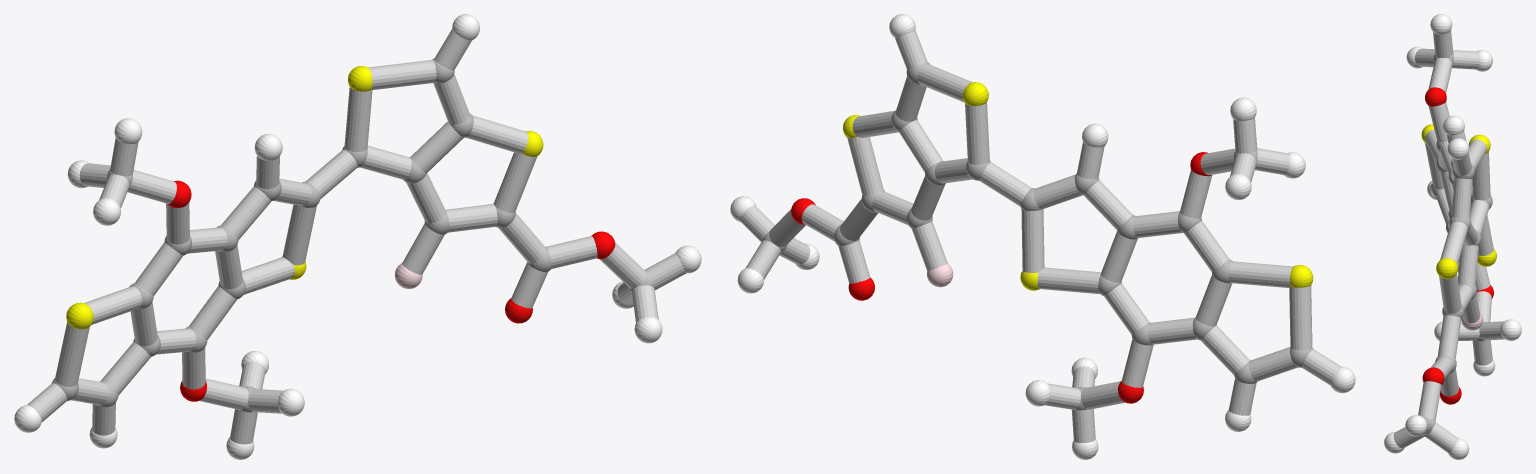
The model's file is color.glb.
3 views of the same model, side by side, from view 1: azimuth 30°, elevation 25°; view 2: azimuth 150°, elevation 25°; view 3: azimuth 270°, elevation 25° (orthographic). The views are drawn at different scales.
Parts seen in each view (by area): view 1: grp15205, grp8689, grp1, grp7241, grp13395; view 2: grp15205, grp8689, grp1, grp7241, grp13395; view 3: grp15205, grp8689, grp1, grp13395, grp7241, grp14843.
Part boxes in pixels (box(x1,y1,x2,y2)): grp15205: box(27, 29, 686, 444); grp8689: box(14, 14, 701, 459); grp1: box(51, 58, 652, 412); grp7241: box(66, 66, 543, 329); grp13395: box(167, 180, 615, 401); grp15205: box(740, 30, 1341, 442); grp8689: box(730, 14, 1355, 459); grp1: box(762, 62, 1313, 410); grp7241: box(842, 82, 1313, 290); grp13395: box(791, 152, 1211, 403); grp15205: box(1393, 30, 1504, 452); grp8689: box(1384, 14, 1521, 459); grp1: box(1421, 53, 1492, 436); grp13395: box(1422, 87, 1493, 404); grp7241: box(1421, 124, 1496, 279); grp14843: box(1461, 312, 1483, 330).
Bounding box in the file's own units: 16.57 × 9.56 × 3.78.
